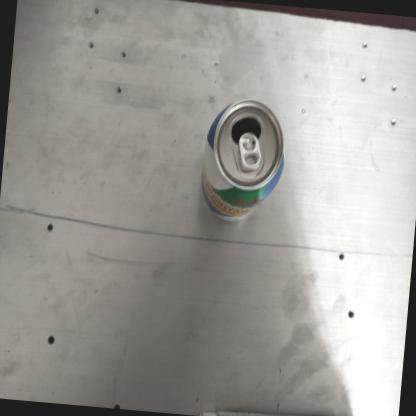debris: (186, 84, 298, 232)
